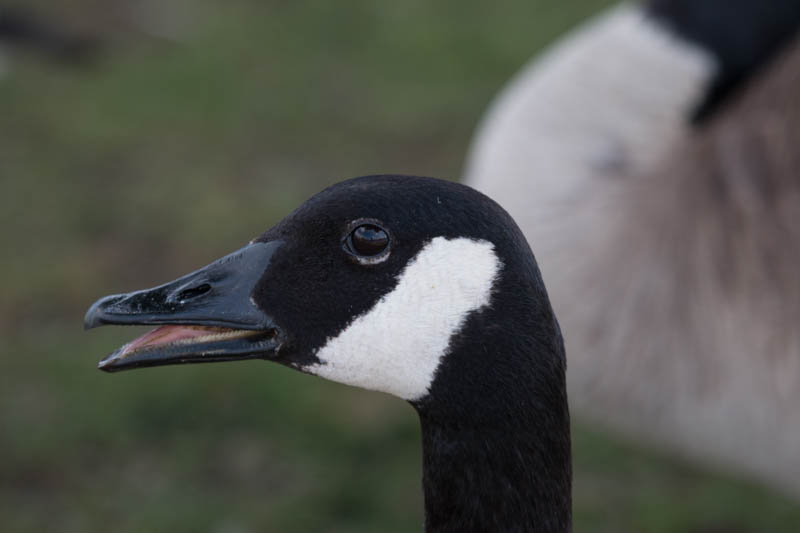goose-head: (82, 174, 567, 412)
